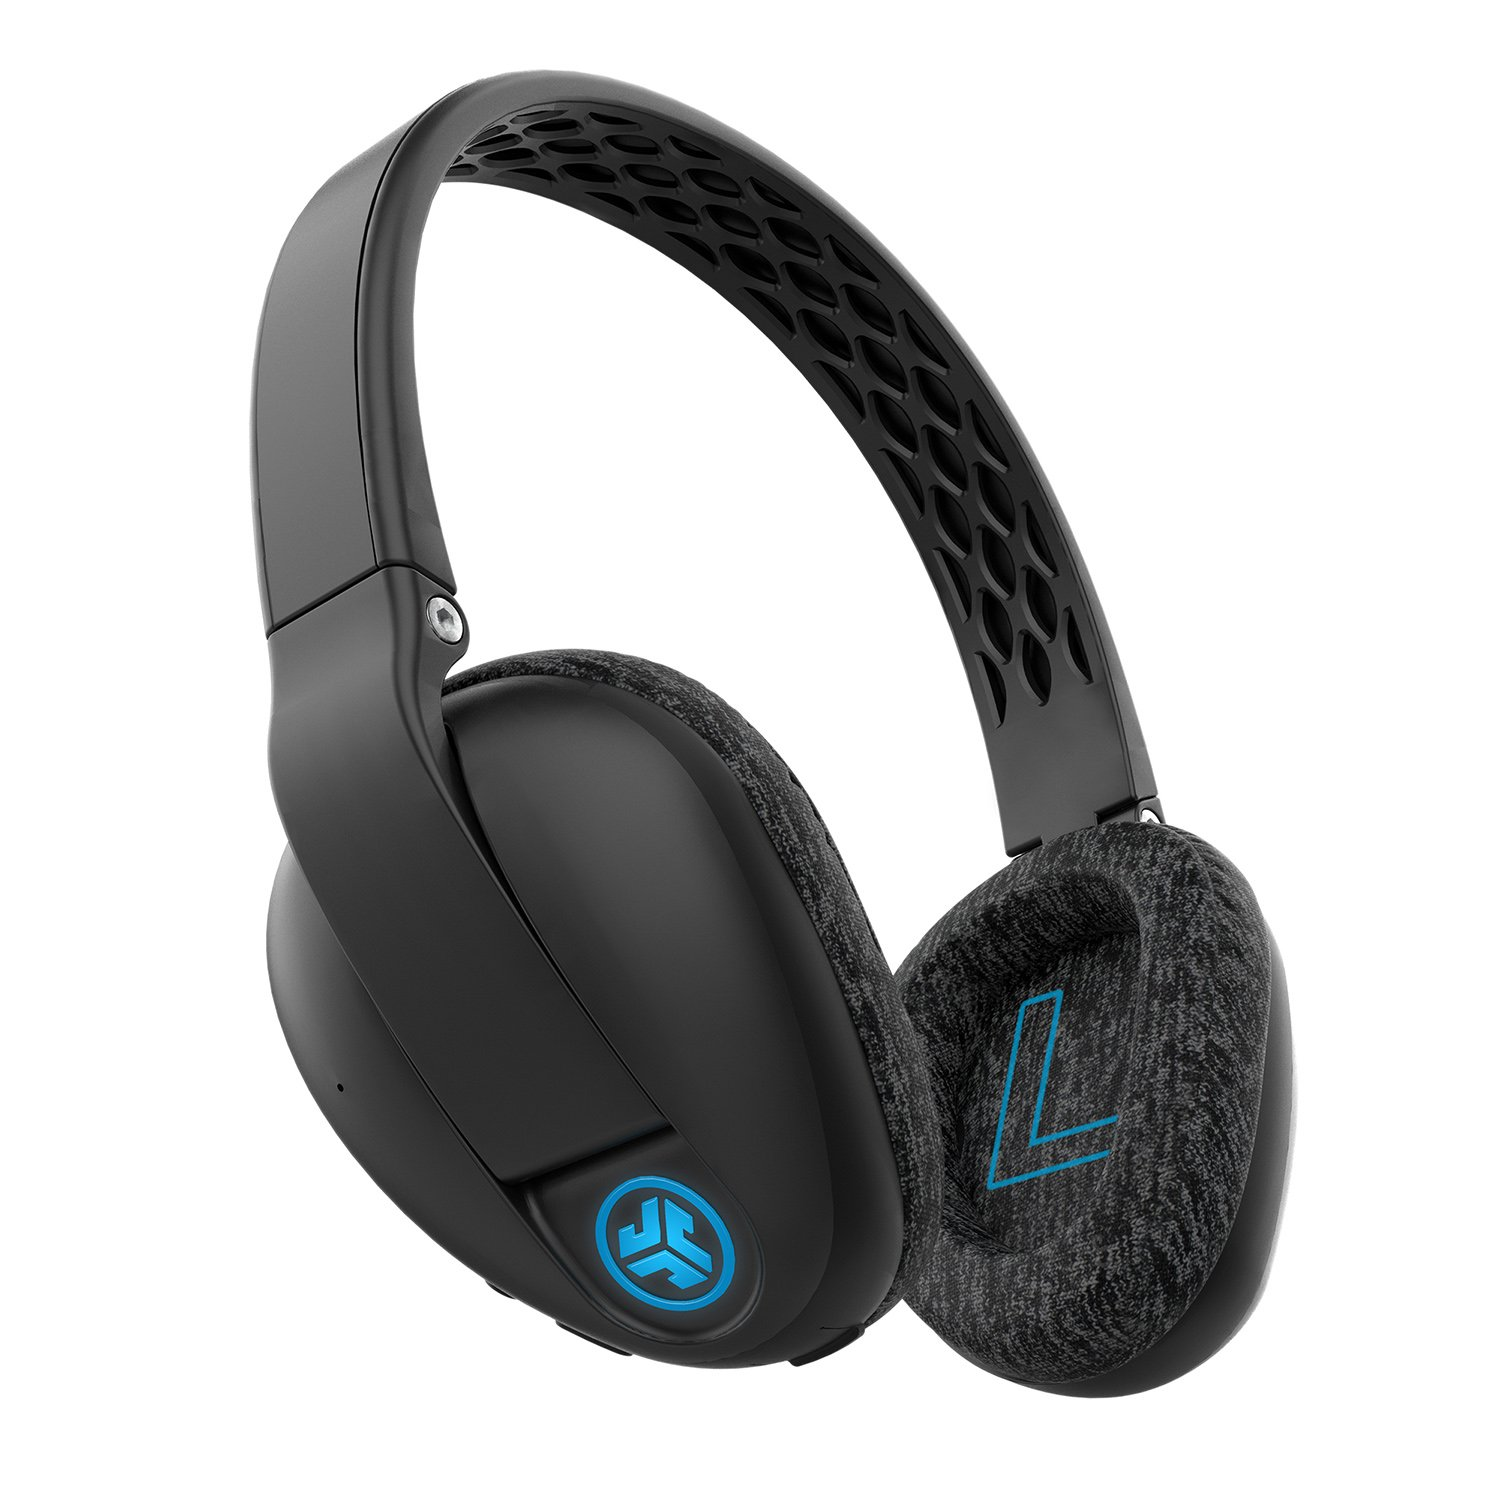Headphone: (223, 49, 1320, 1416)
